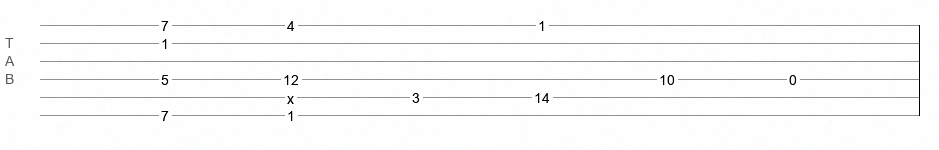0: (789, 72, 797, 82)
1: (161, 36, 169, 46), (287, 108, 295, 118), (538, 18, 546, 28)
10: (659, 72, 675, 82)
12: (283, 72, 299, 82)
14: (534, 90, 550, 100)
3: (412, 90, 420, 100)
4: (287, 18, 295, 28)
5: (161, 72, 169, 82)
7: (161, 18, 169, 28), (161, 108, 169, 118)
x: (287, 91, 294, 99)
